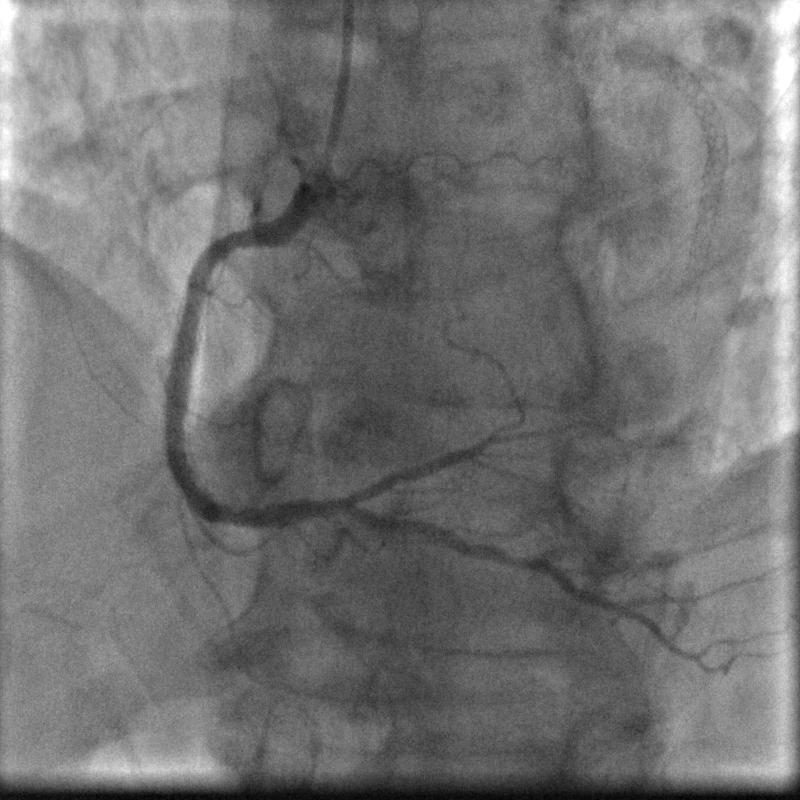Stenosis: (216, 224, 257, 265)
